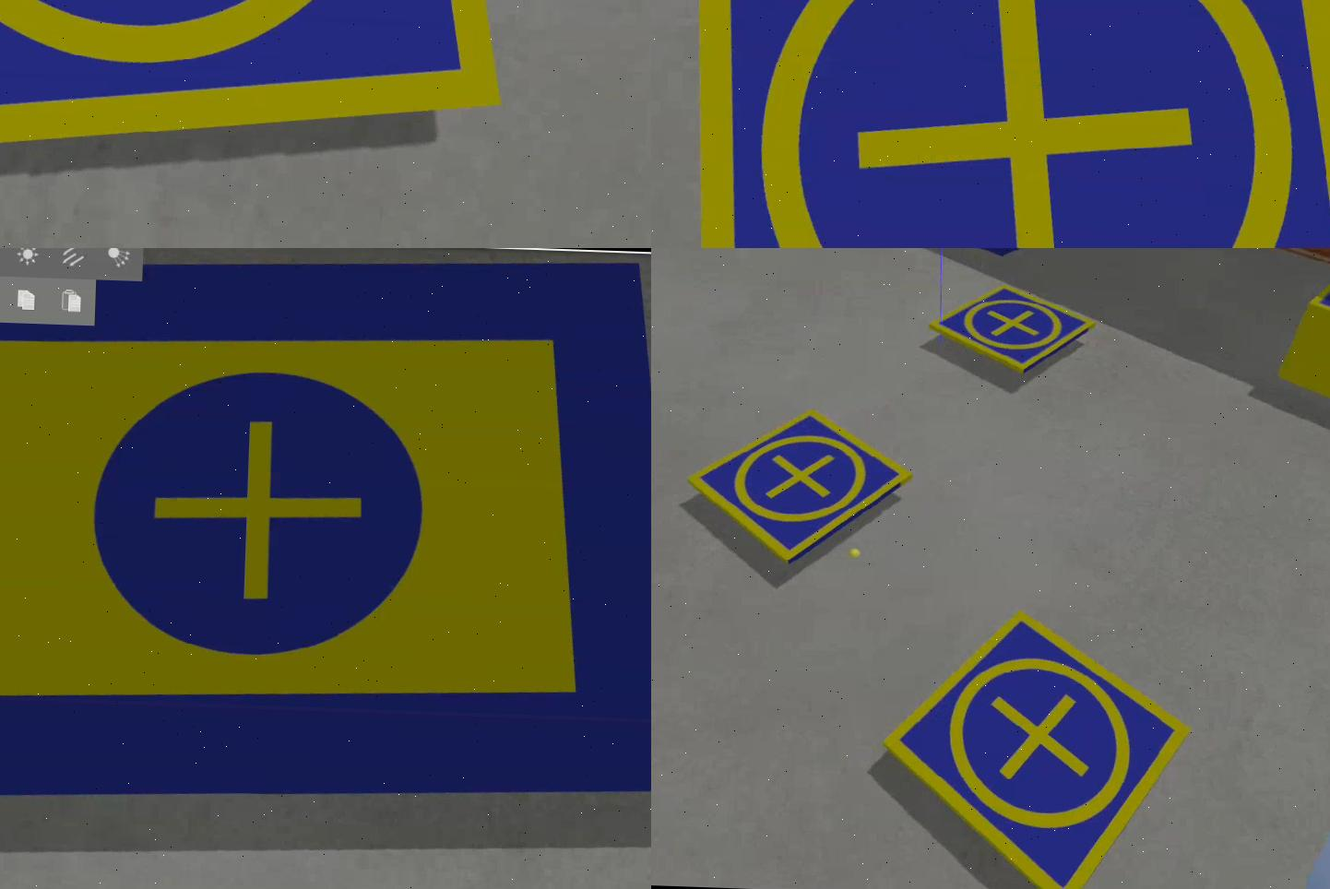large_base: (1, 249, 652, 828)
small_base: (679, 1, 1330, 249), (1, 1, 526, 185), (878, 606, 1194, 889), (684, 407, 917, 571), (929, 280, 1099, 381)
